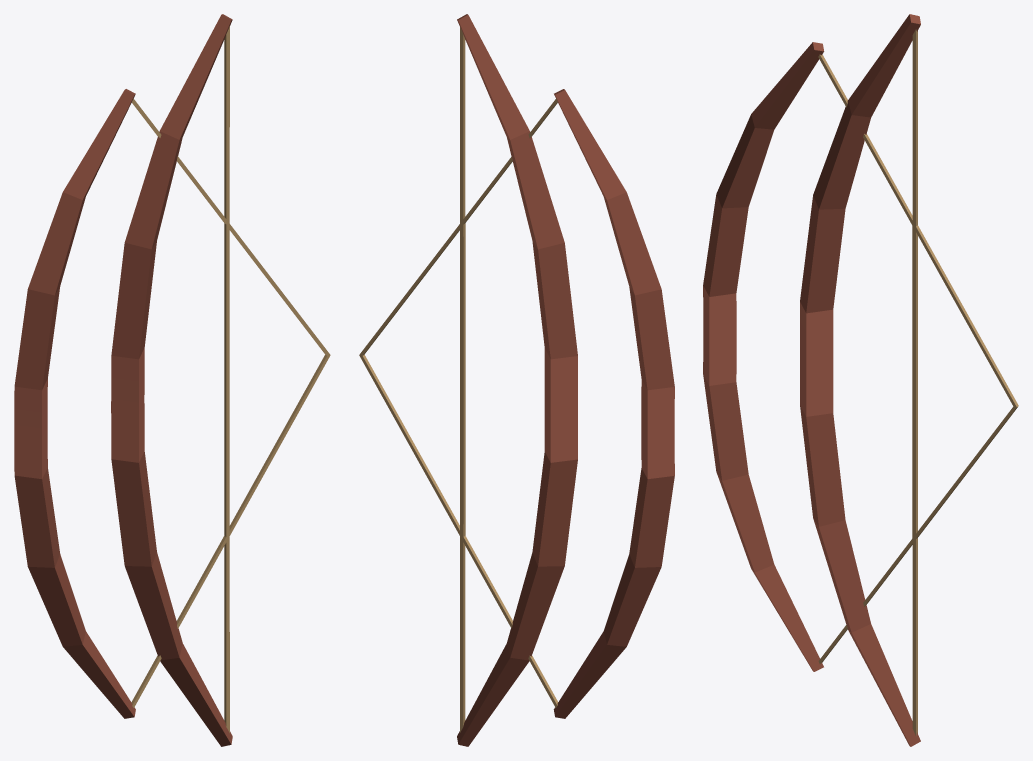
Rendered from bow_1.glb.
3 views of the same model, side by side, from view 1: azimuth 30°, elevation 25°; view 2: azimuth 150°, elevation 25°; view 3: azimuth 330°, elevation 25° (orthographic).
Parts seen in each view (by area): view 1: BowRest, BowDrawn; view 2: BowRest, BowDrawn; view 3: BowRest, BowDrawn.
Part boxes in pixels (x1=…): BowRest: x1=111, y1=14, x2=232, y2=746; BowDrawn: x1=14, y1=89, x2=330, y2=718; BowRest: x1=457, y1=14, x2=577, y2=746; BowDrawn: x1=359, y1=89, x2=674, y2=718; BowRest: x1=800, y1=14, x2=920, y2=746; BowDrawn: x1=703, y1=42, x2=1018, y2=671.
Bounding box in the file's own units: 0.4501 × 1 × 0.0519.
1 material, 1 textured.
